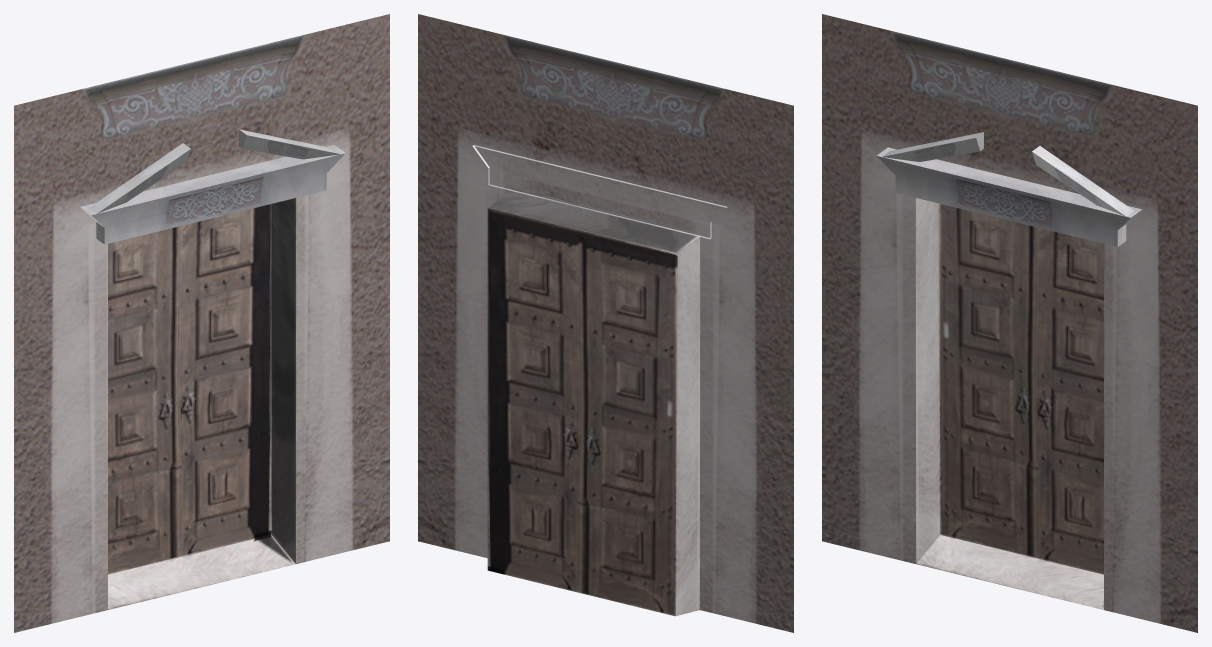
Rendered from door.obj.
The picture shows the model from 3 angles, left to right: view 1: azimuth 30°, elevation 25°; view 2: azimuth 150°, elevation 25°; view 3: azimuth 330°, elevation 25°; orthographic projection.
Visible parts, largest first — view 1: polySurface68; view 2: polySurface68; view 3: polySurface68.
Boxes of the visible parts, x1,y1,x2,y2 form: polySurface68: [14, 14, 389, 632]; polySurface68: [418, 14, 793, 632]; polySurface68: [822, 14, 1197, 632].
Size of the model in its own units: 1.53 by 2.05 by 0.253.
Materials: 1 (1 with a texture image).
